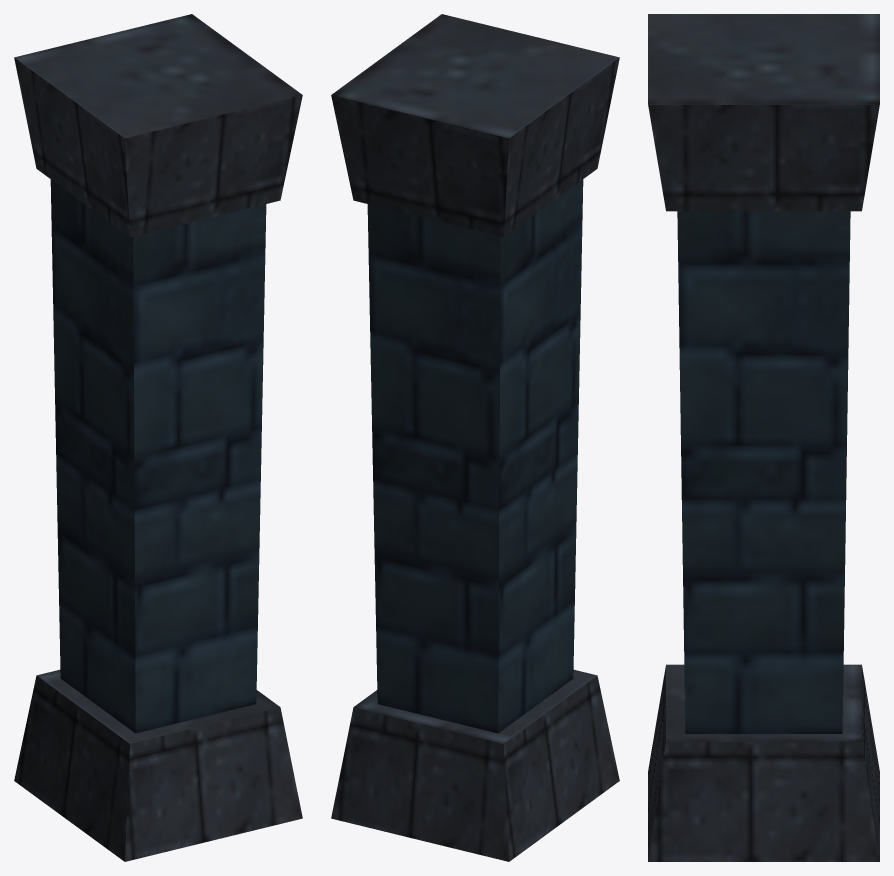
File: Column_02.fbx
3 renders of one model, left to right at view 1: azimuth 30°, elevation 25°; view 2: azimuth 150°, elevation 25°; view 3: azimuth 270°, elevation 25°, orthographic. The views are drawn at different scales.
Visible parts, largest first — view 1: Column_02; view 2: Column_02; view 3: Column_02.
Part boxes in pixels (x1,y1,x2,y2): Column_02: (14, 14, 302, 861); Column_02: (331, 14, 619, 861); Column_02: (648, 14, 879, 861).
Bounding box in the file's own units: 70.63 × 274 × 76.1.
